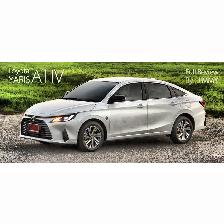NON-EV: (22, 76, 207, 152)
